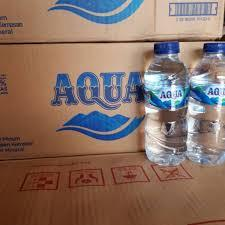BIODEGRADABLE: (137, 34, 191, 172), (187, 41, 225, 169)
